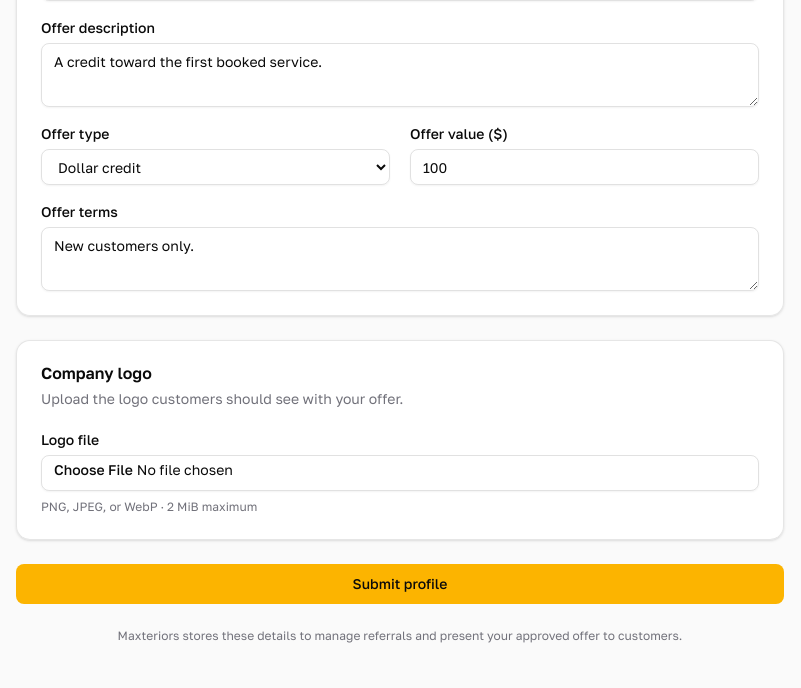
Test: PublicReferralPartnerIntake › focuses the required logo when submission is blocked
(page scrolled)
Step 1. Click the button "Submit profile" → point(400, 584), box [16,564,784,604]
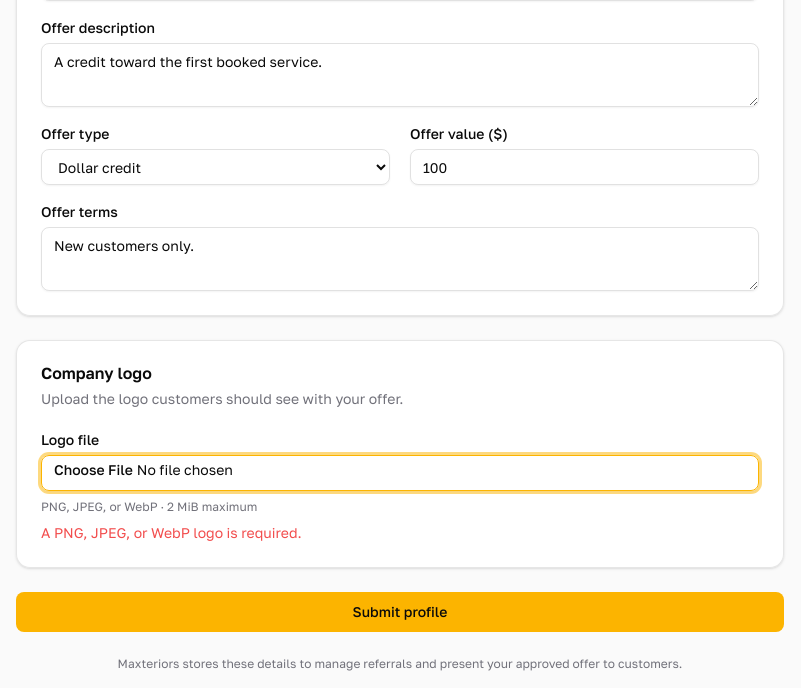
Expected: the text "A PNG, JPEG, or WebP logo is required." is shown, [41,524,302,541]
